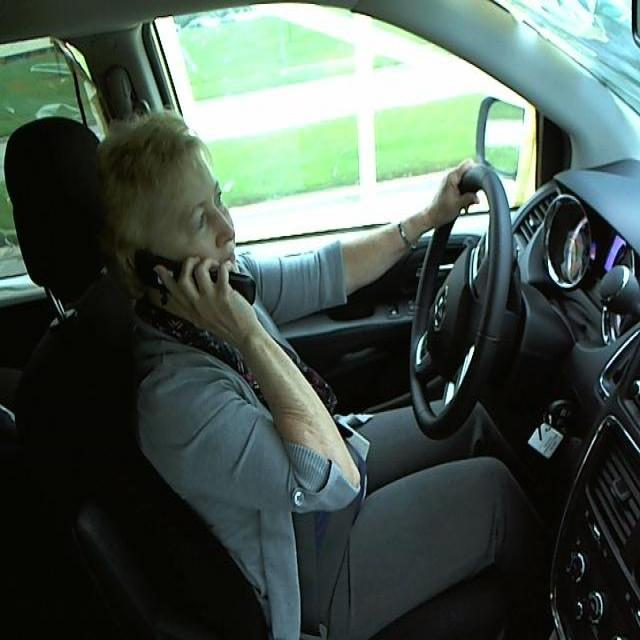using_phone: (96, 109, 266, 362)
